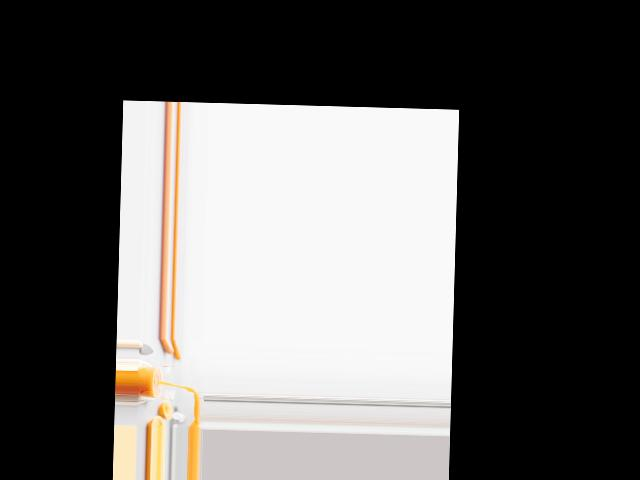carrot: (157, 338, 180, 361)
